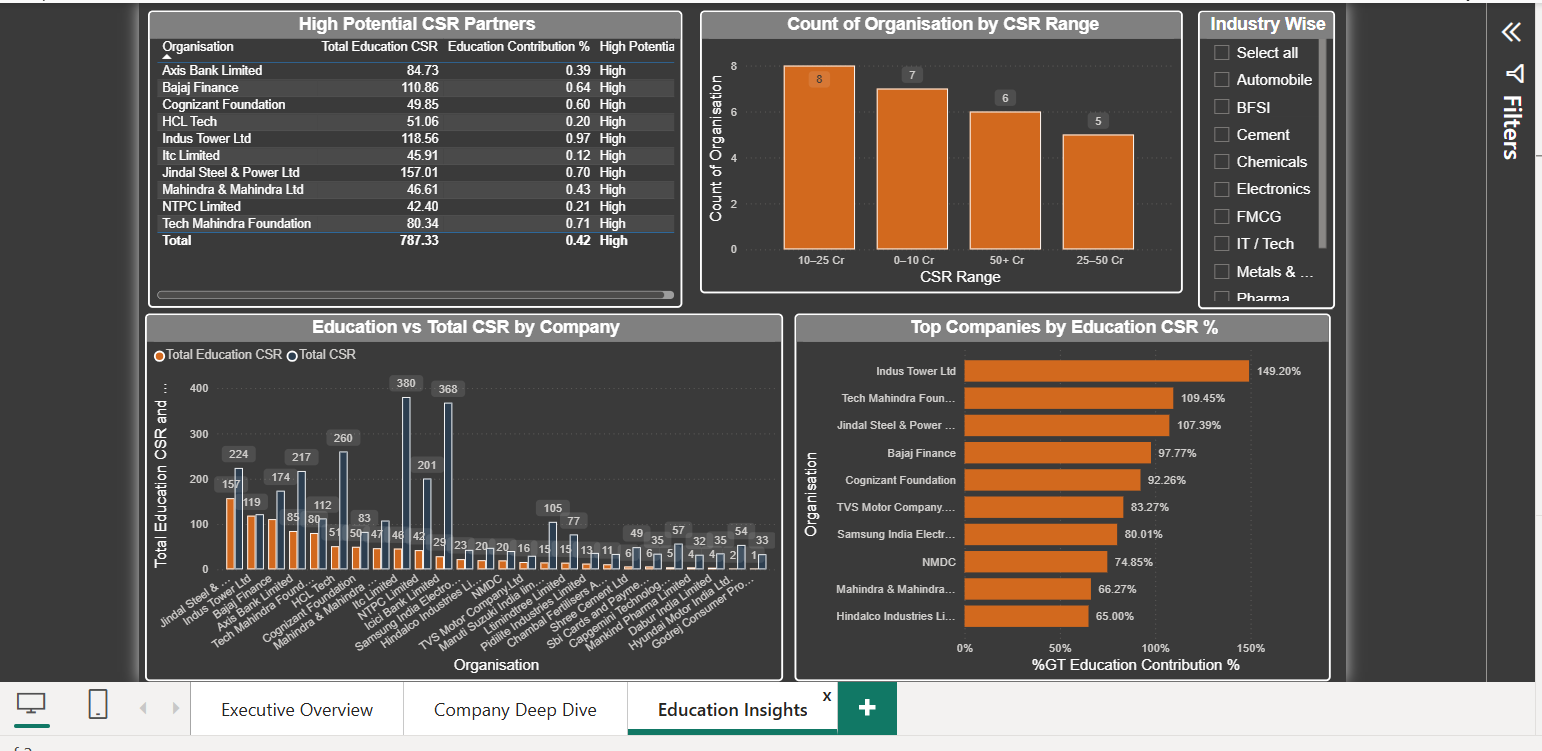

What the dashboard file says about the page in this screenshot:
{"tool":"powerbi","page":{"name":"Education Insights","canvas":[1280,720],"ordinal":2},"visuals":[{"type":"clusteredColumnChart","title":"Education vs Total CSR by Company","fields":{"Category":["Raw Data.Organisation"],"Y":["Raw Data.Total Education CSR","Raw Data.Total CSR"]},"box":[6.7,330,676.7,390],"z":0},{"type":"clusteredBarChart","title":"Top Companies by Education CSR %","fields":{"Category":["Raw Data.Organisation"],"Y":["Raw Data.Education Contribution %"]},"box":[695,330,568.3,390],"z":1000},{"type":"tableEx","title":"High Potential CSR Partners","fields":{"Values":["Raw Data.Organisation","Raw Data.Total Education CSR","Raw Data.Education Contribution %","Raw Data.High Potential"]},"box":[10,8.3,566.7,315],"z":2000},{"type":"clusteredColumnChart","fields":{"Category":["Raw Data.CSR Range"],"Y":["CountNonNull(Raw Data.Organisation)"]},"box":[595,8.3,511.7,300],"z":3000},{"type":"slicer","title":"Industry Wise","fields":{"Values":["Raw Data.Education By Industry"]},"box":[1123.3,8.3,145,316.7],"z":4000}]}

Visuals, with their boxes on the page's 1280x720 design canvas (x1, y1, x2, y2). These are canvas units, not pixel positions in the 1542x751 screenshot, which may show the page scaled, cropped or inside an application window:
"Education vs Total CSR by Company" clusteredColumnChart: [left=7, top=330, right=683, bottom=720]
"Top Companies by Education CSR %" clusteredBarChart: [left=695, top=330, right=1263, bottom=720]
"High Potential CSR Partners" tableEx: [left=10, top=8, right=577, bottom=323]
clusteredColumnChart - Raw Data.CSR Range x CountNonNull(Raw Data.Organisation): [left=595, top=8, right=1107, bottom=308]
"Industry Wise" slicer: [left=1123, top=8, right=1268, bottom=325]
